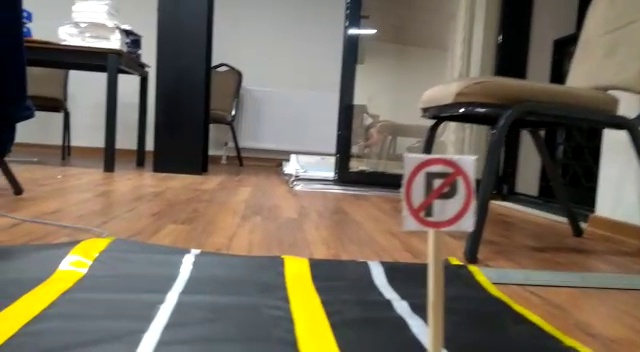park_yapilmaz: (402, 155, 475, 233)
